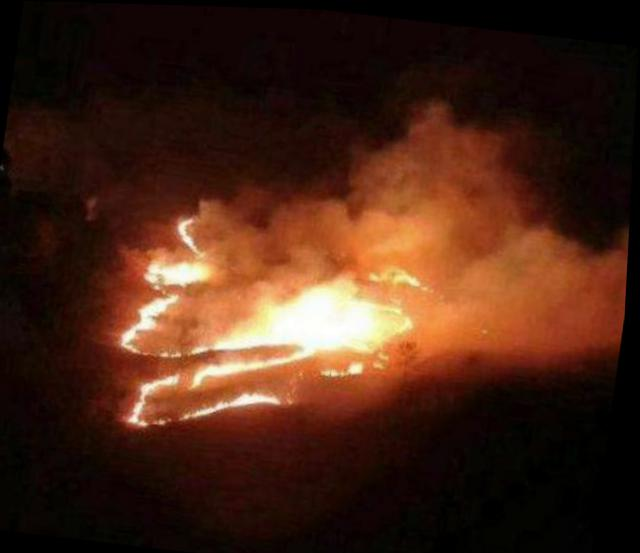fire: (121, 204, 439, 449)
